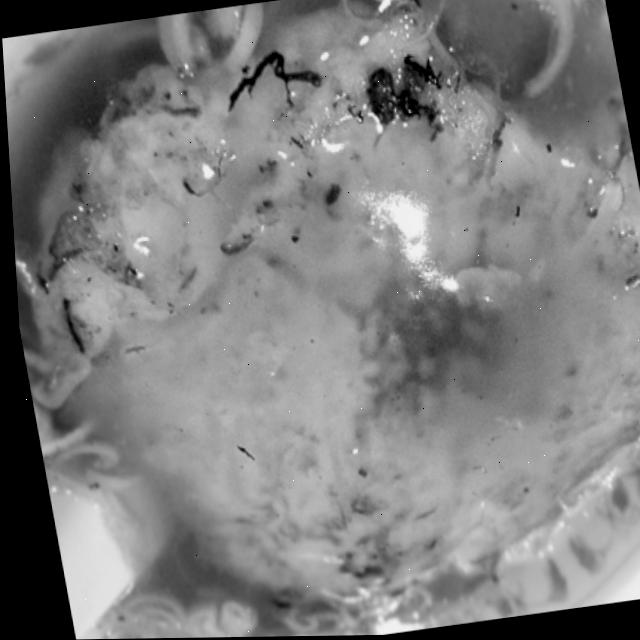面条主食: (10, 0, 640, 630)
